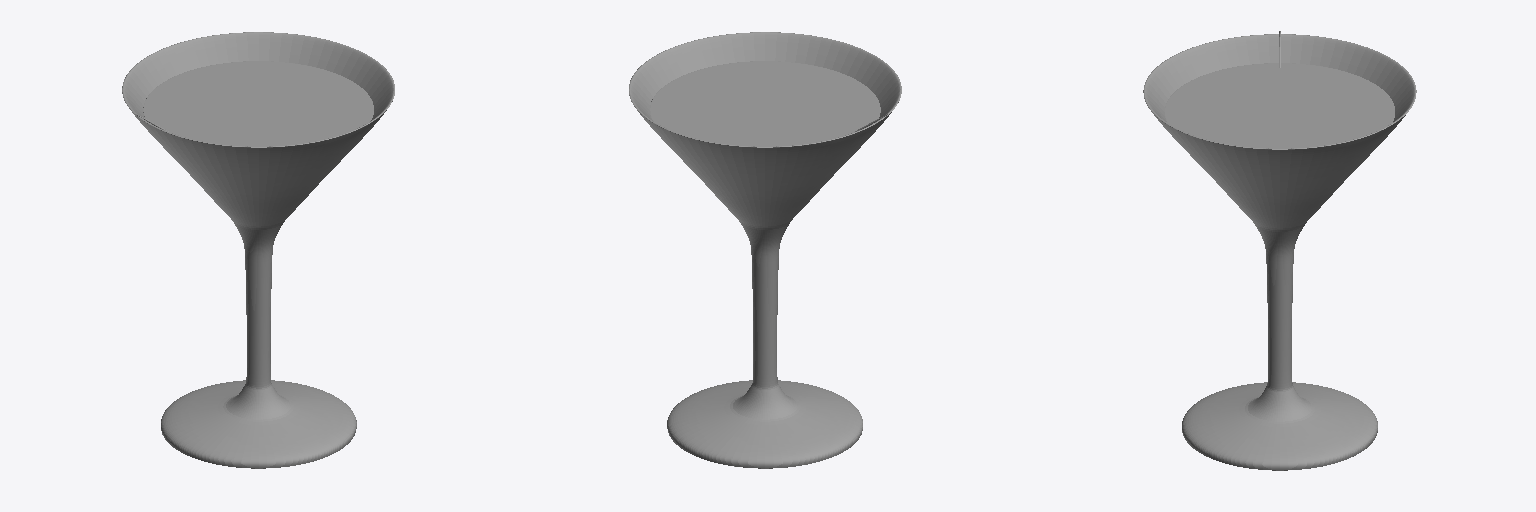
The model's file is cocktail_with_olives.obj.
The picture shows the model from 3 angles: view 1: azimuth 30°, elevation 25°; view 2: azimuth 150°, elevation 25°; view 3: azimuth 270°, elevation 25°; orthographic projection.
Visible parts, largest first — view 1: cocktail_glass, cocktail_liquid; view 2: cocktail_glass, cocktail_liquid; view 3: cocktail_glass, cocktail_liquid.
Boxes of the visible parts, <box> form: cocktail_glass: <box>122,32,394,468</box>; cocktail_liquid: <box>143,61,373,146</box>; cocktail_glass: <box>629,32,901,468</box>; cocktail_liquid: <box>650,61,880,146</box>; cocktail_glass: <box>1143,34,1416,470</box>; cocktail_liquid: <box>1165,63,1394,148</box>.
Size of the model in its own units: 11.25 by 15.28 by 11.